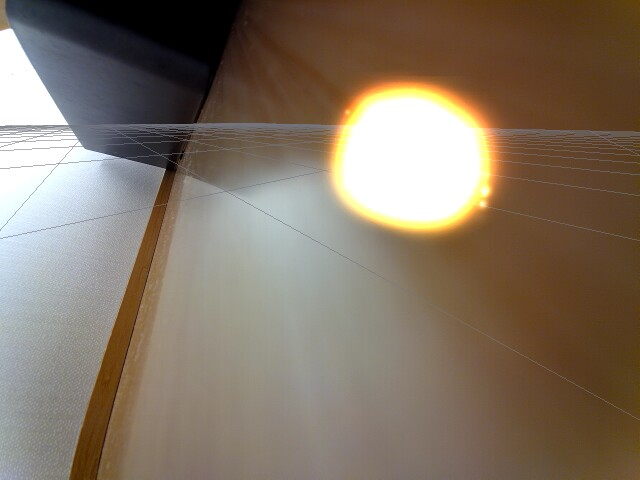fire: (331, 79, 494, 239)
